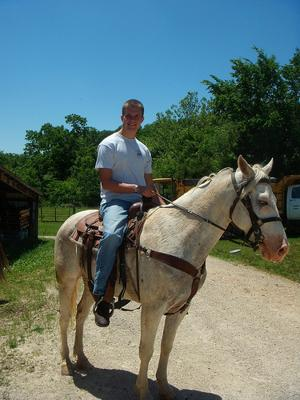person: (94, 101, 167, 326)
